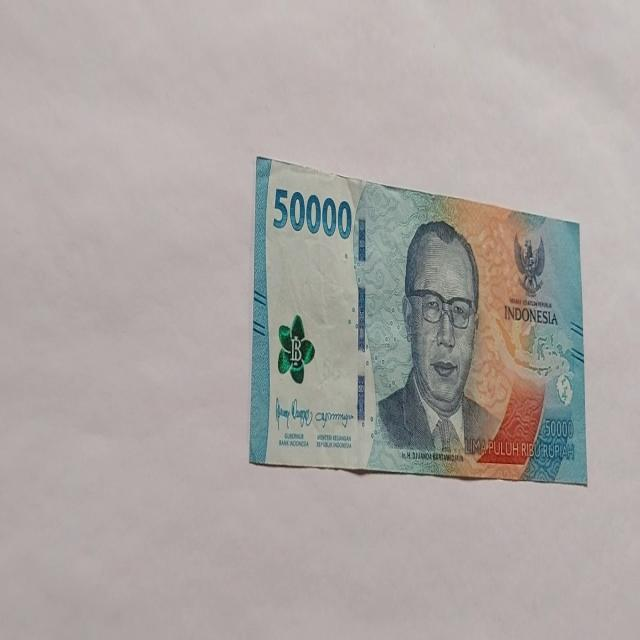lima puluh ribu rupiah: (248, 154, 588, 483), (371, 218, 502, 464)
